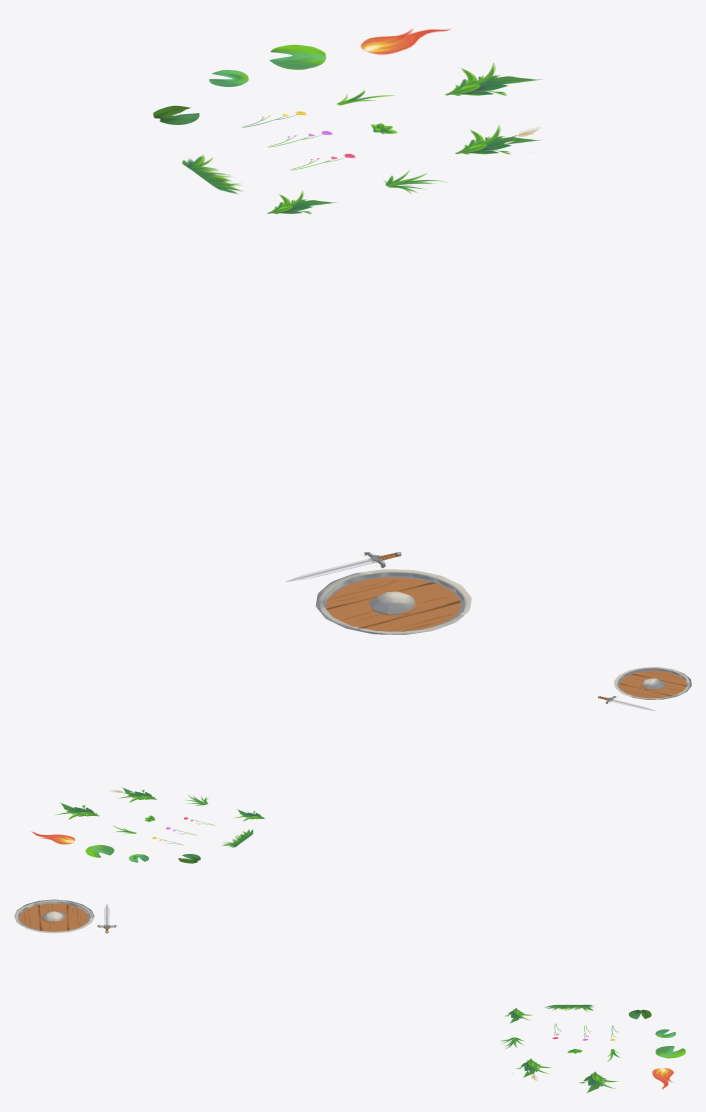
The model's file is itens_atlas.glb.
3 renders of one model, top to bottom at view 1: azimuth 30°, elevation 25°; view 2: azimuth 150°, elevation 25°; view 3: azimuth 270°, elevation 25°, orthographic. The views are drawn at different scales.
Parts seen in each view (by area): view 1: Itens-Atlas.001_Itens-Atlas_0; view 2: Itens-Atlas.001_Itens-Atlas_0; view 3: Itens-Atlas.001_Itens-Atlas_0.
Boxes of the visible parts, x1,y1,x2,y2 form: Itens-Atlas.001_Itens-Atlas_0: (153,28,541,634); Itens-Atlas.001_Itens-Atlas_0: (31,667,691,863); Itens-Atlas.001_Itens-Atlas_0: (14,899,685,1093).
Bounding box in the file's own units: 4.93 × 0.187 × 7.53.
Materials: 1 (1 with a texture image).
